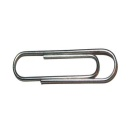Metal: (5, 36, 122, 98)
